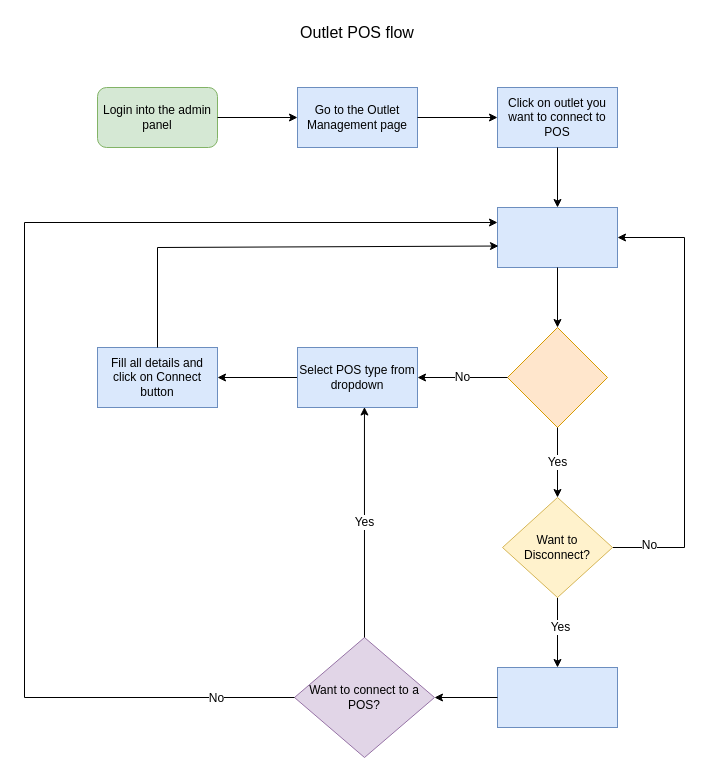
The diagram is 710 pixels wide and 775 high, and some of its shapes have lost their labels. Each missing label, with the centre of its shape:
Click on Disconnect button: [557,697]
Is POS connected?: [557,377]
Outlet Edit page: [557,237]
